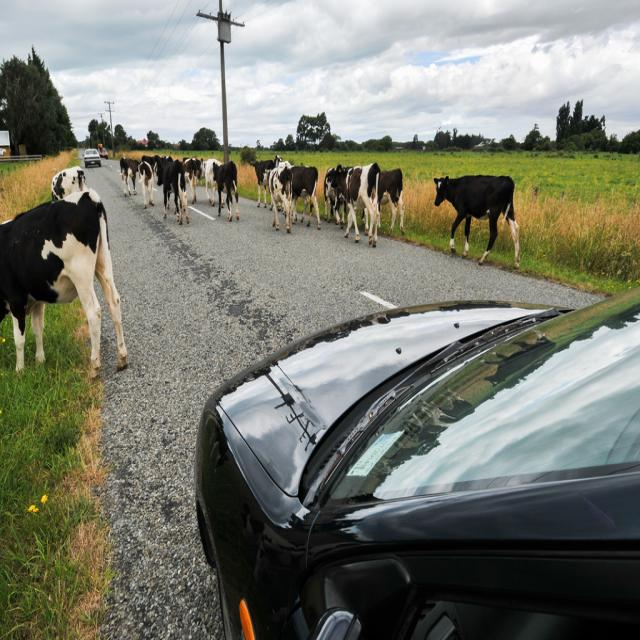car: (83, 146, 100, 166)
